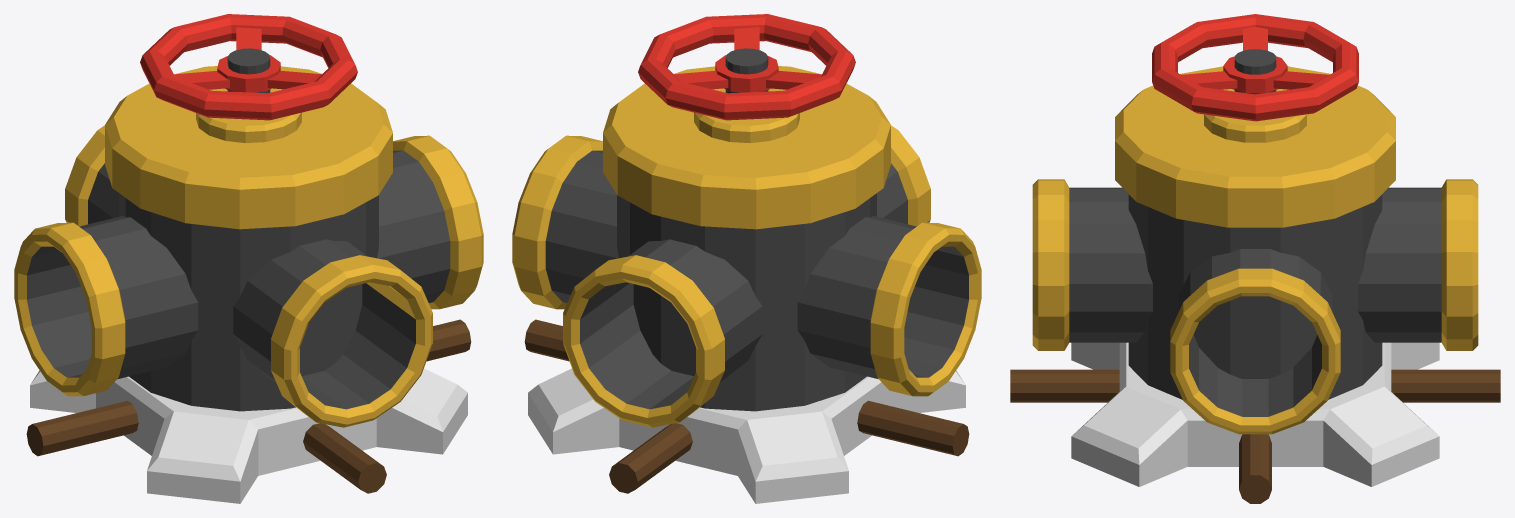
File: FlamethrowerBox.fbx
3 renders of one model, left to right at view 1: azimuth 30°, elevation 25°; view 2: azimuth 150°, elevation 25°; view 3: azimuth 270°, elevation 25°, orthographic.
Visible parts, largest first — view 1: flamethrower; view 2: flamethrower; view 3: flamethrower.
Part boxes in pixels (x1,y1,x2,y2): flamethrower: (14,14,483,503); flamethrower: (512,14,981,503); flamethrower: (1010,14,1500,503).
Bounding box in the file's own units: 361 × 287 × 361.
